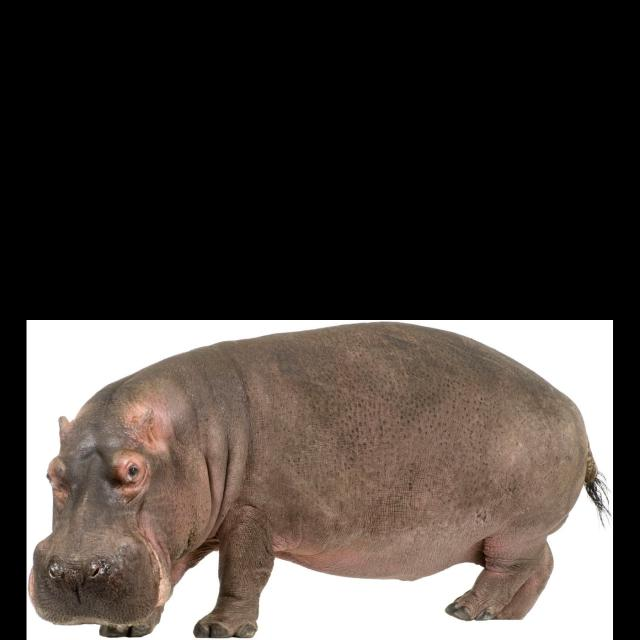Hippopotamus: (35, 326, 600, 640)
